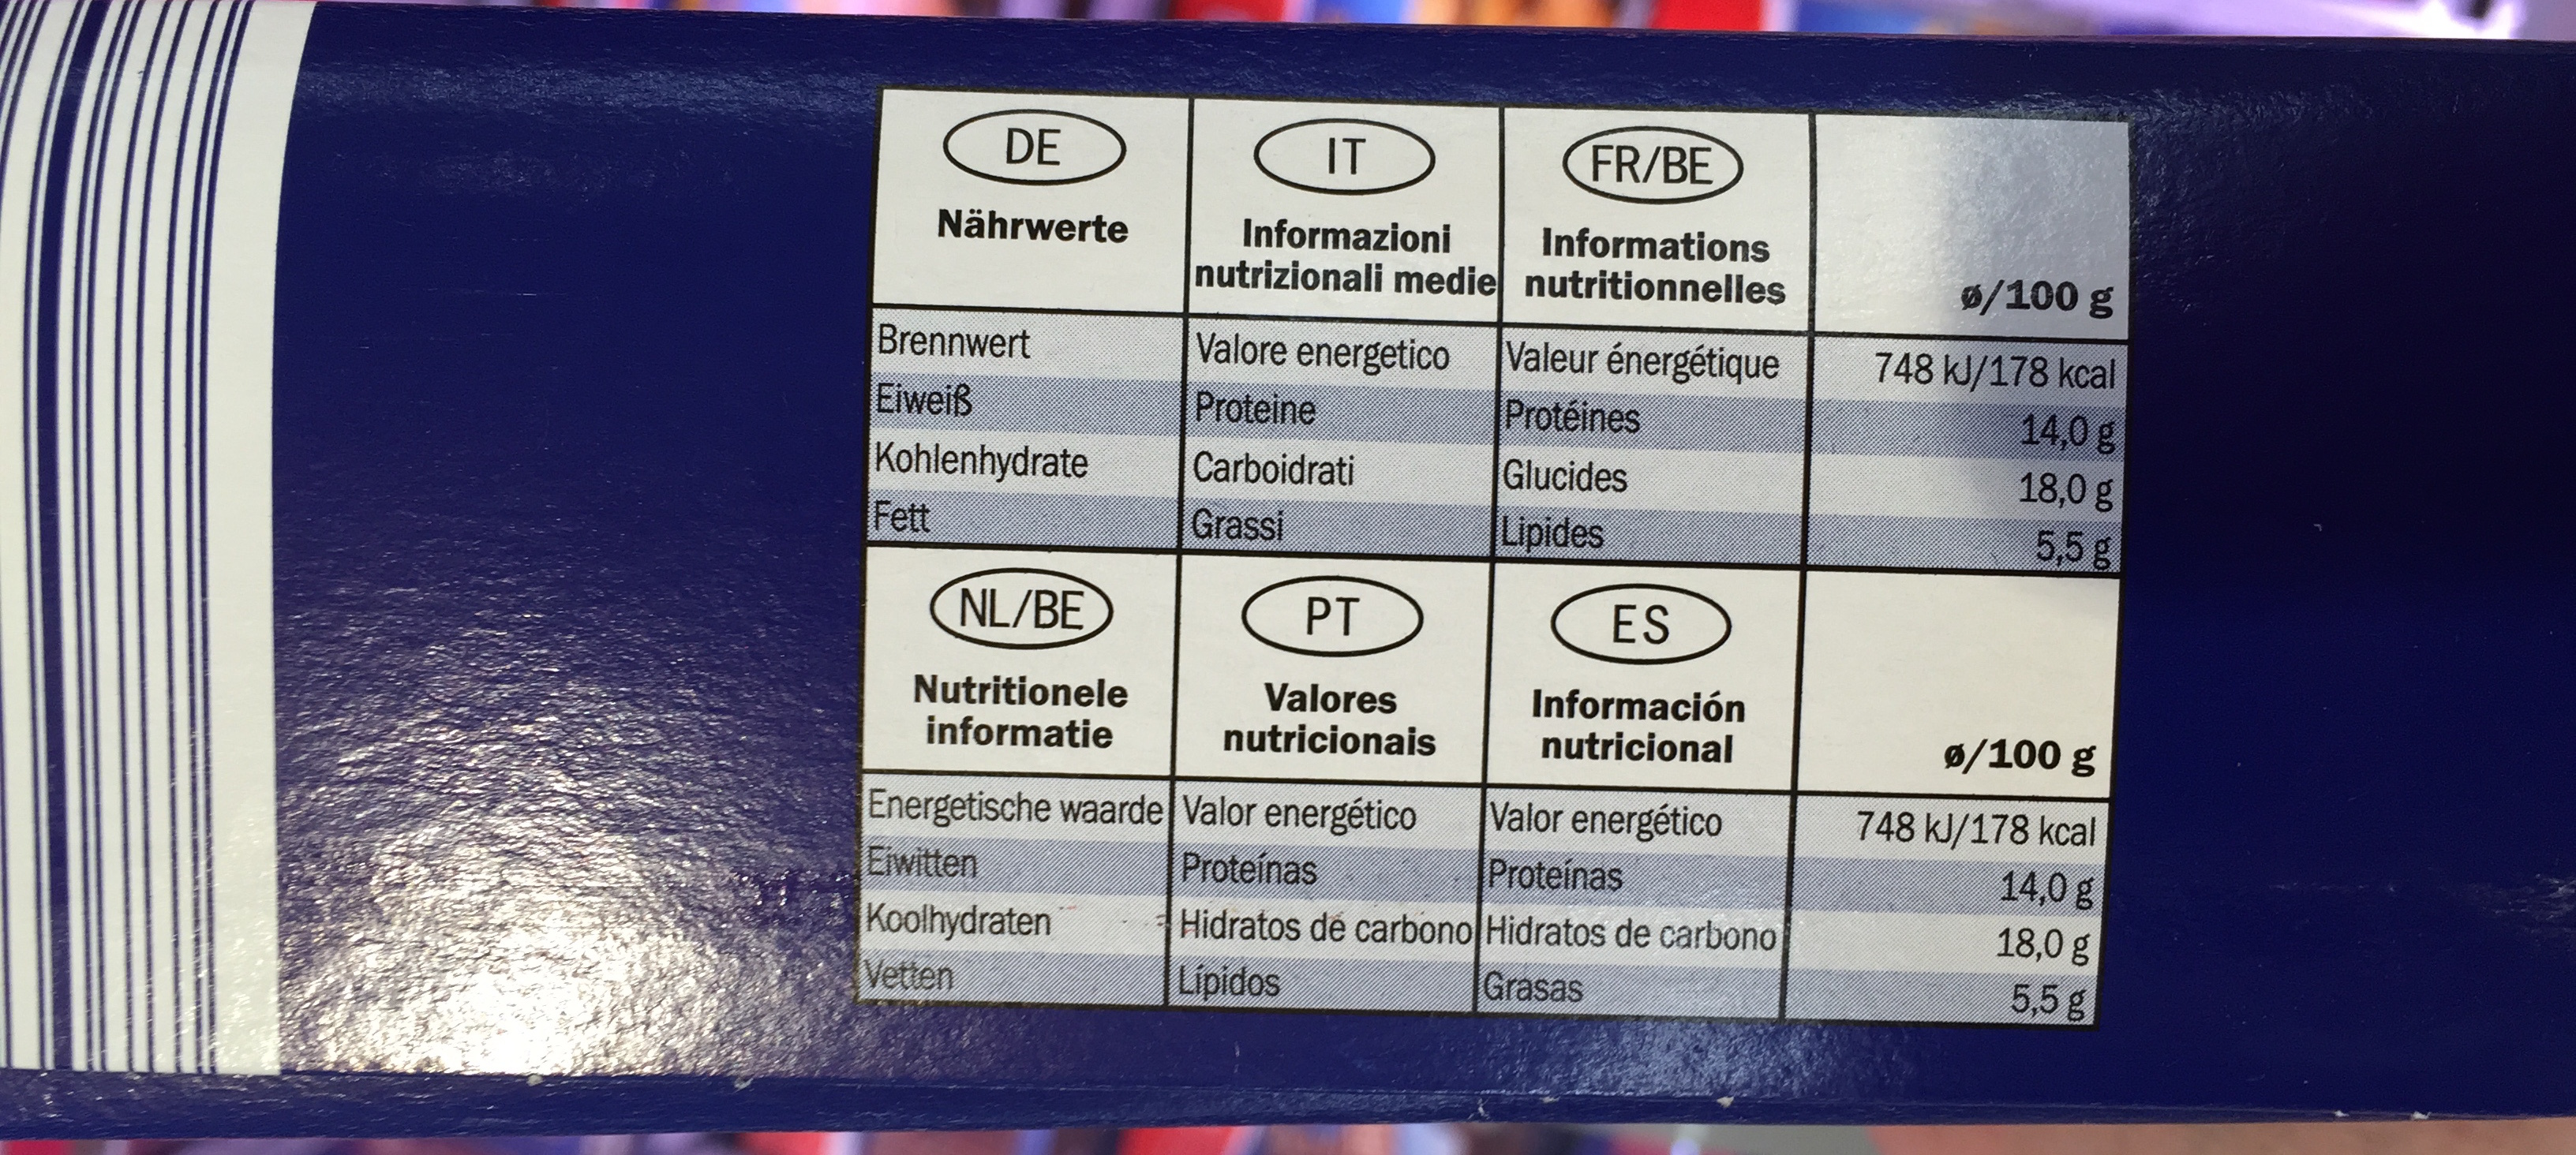column: (1178, 108, 1477, 1020), (869, 97, 1163, 1024), (1503, 113, 1791, 1024), (1858, 253, 2118, 1027)
table: (843, 95, 2118, 1032)
